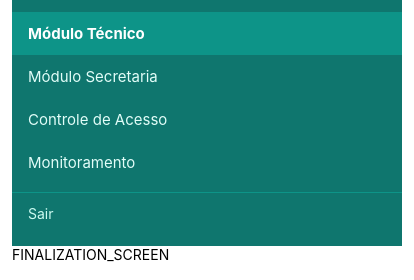
SuperusuarioHomeScreen › renders SecretaryDashboardScreen after selecting Módulo Secretaria
Click the button "Módulo Secretaria" at (93,76), box [12, 55, 402, 98]
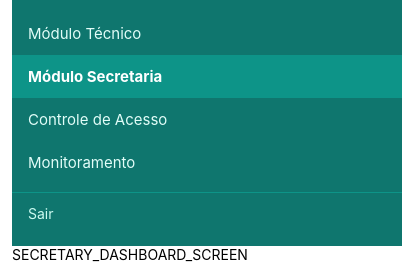
Now the text "SECRETARY_DASHBOARD_SCREEN" is shown, box [12, 246, 248, 263]
